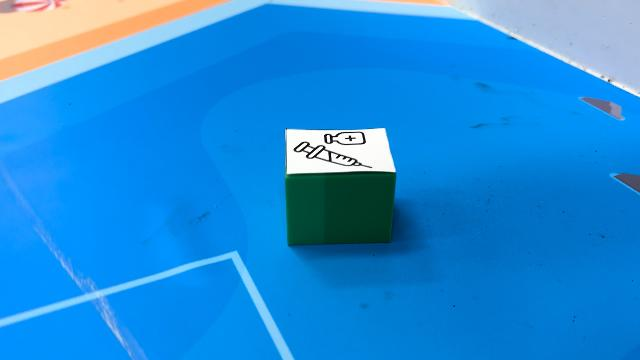syringe: (284, 127, 396, 245)
